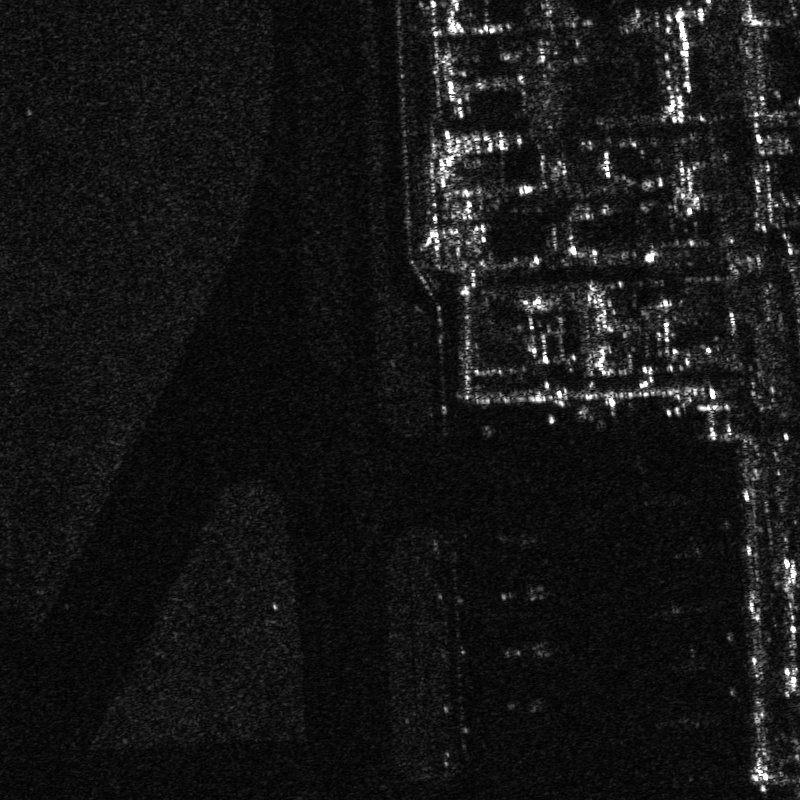ARJ21: (493, 637, 563, 666), (501, 690, 555, 719)
other: (496, 575, 557, 610)
